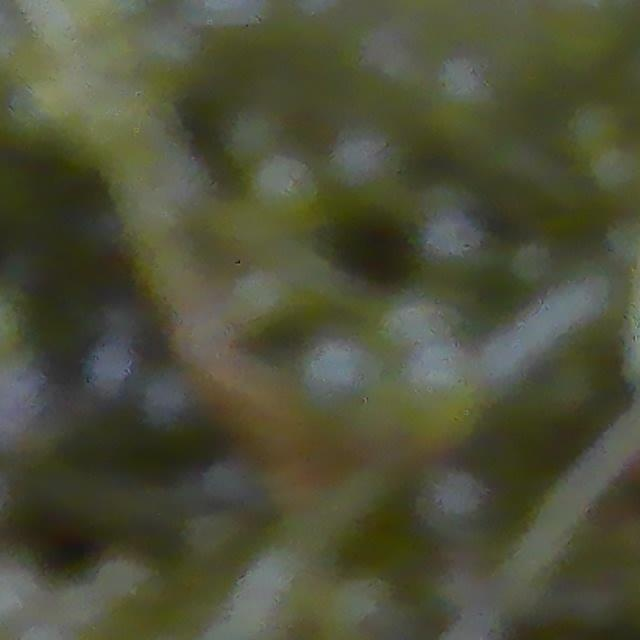SeaGrape: (296, 333, 377, 408), (246, 151, 322, 230)
